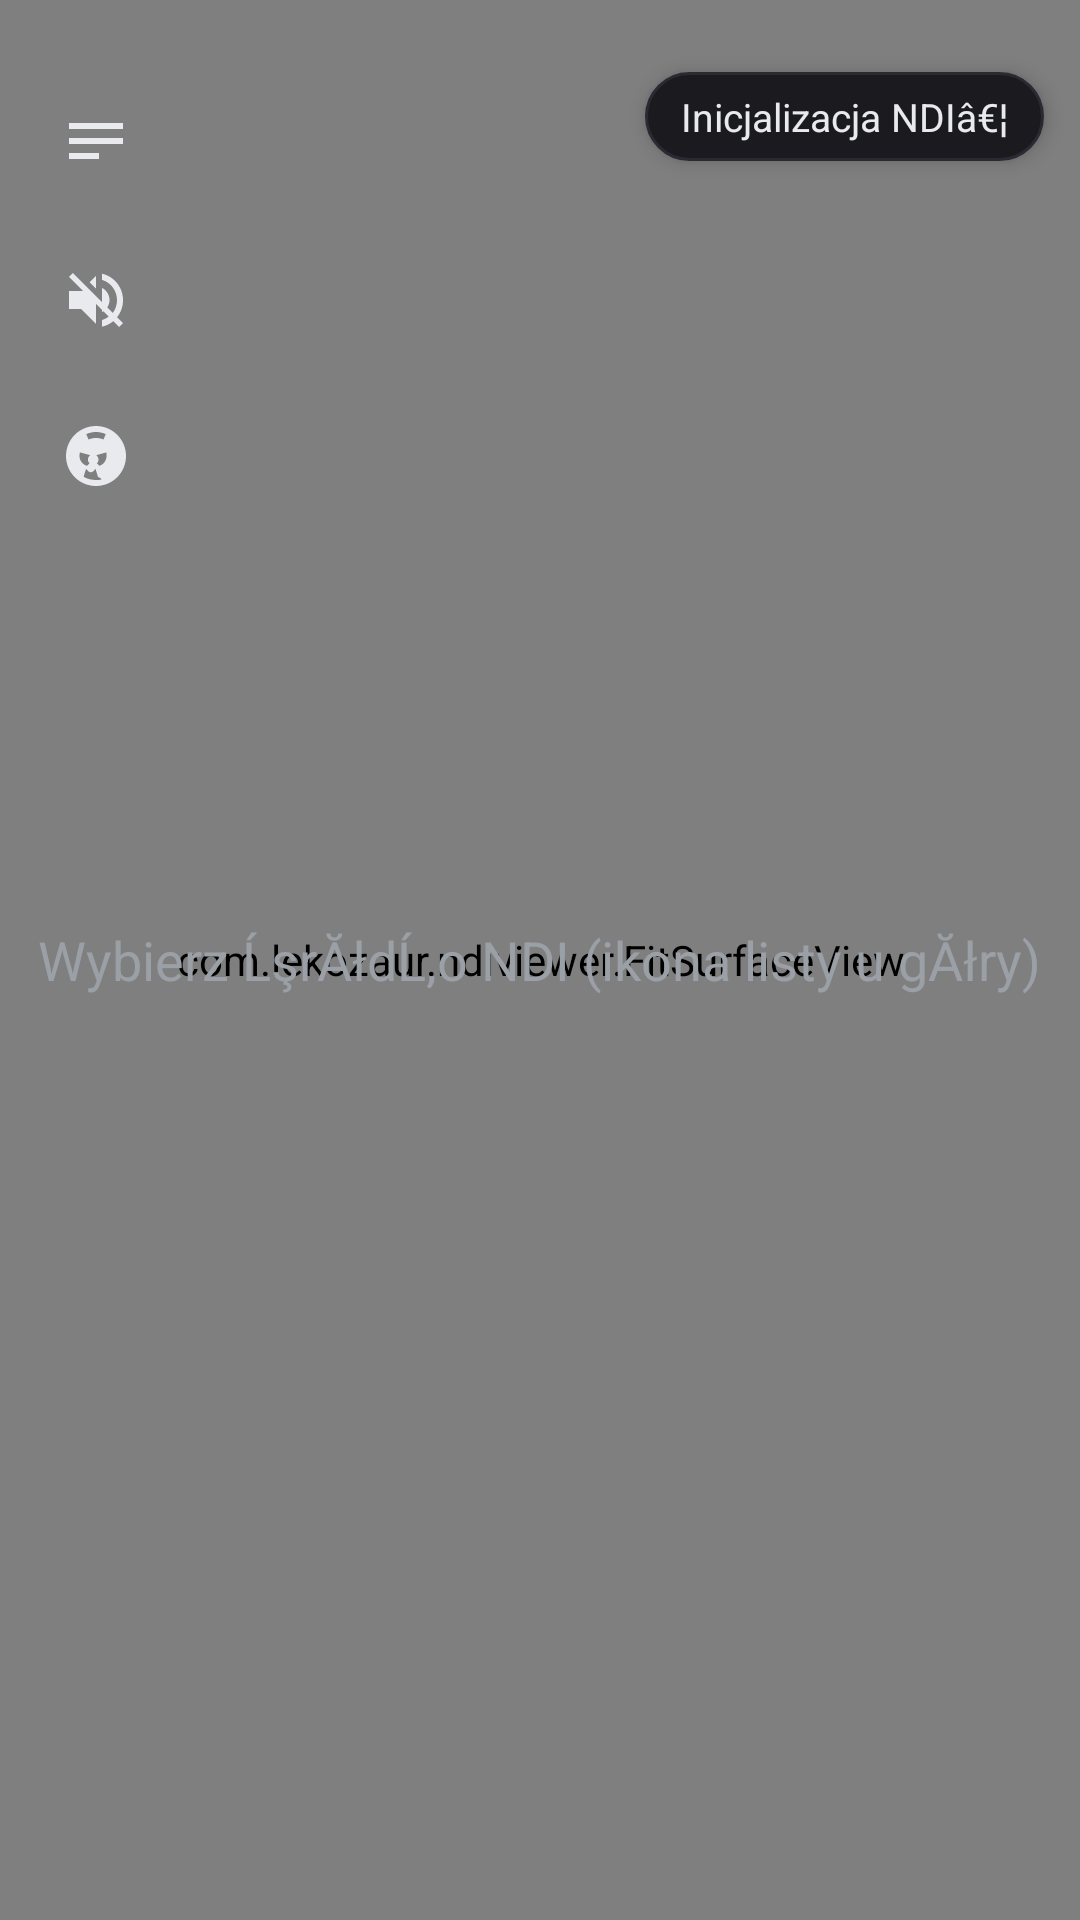

Named icons in this screenshot (1080 × 1920) and their bounding boxes, box=[x1, y1, x2, y2]:
Wycisz: box=[69, 273, 123, 327]
